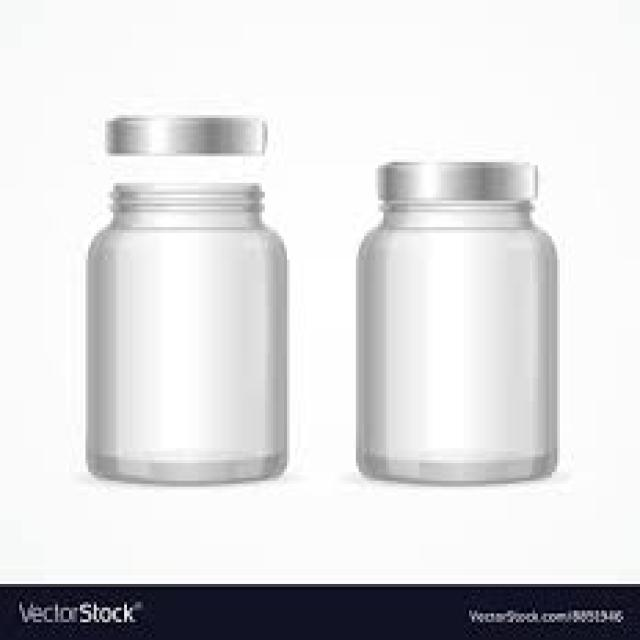glass: (80, 183, 284, 481), (353, 201, 557, 484)
metal: (99, 109, 268, 153), (373, 159, 536, 201)
